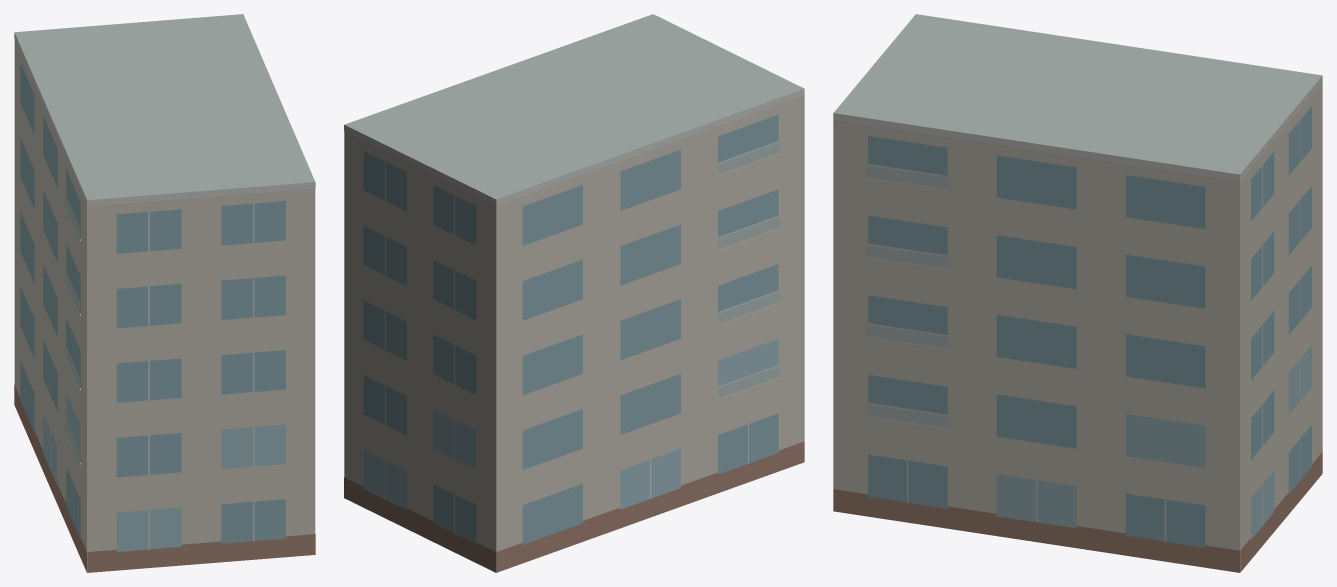
File: survey-upis-32849530.glb
3 renders of one model, left to right at view 1: azimuth 30°, elevation 25°; view 2: azimuth 150°, elevation 25°; view 3: azimuth 270°, elevation 25°, orthographic. The views are drawn at different scales.
Visible parts, largest first — view 1: survey-upis-32849530.tmp; view 2: survey-upis-32849530.tmp; view 3: survey-upis-32849530.tmp.
Boxes of the visible parts, left/top/right/bottom form: survey-upis-32849530.tmp: left=14, top=14, right=315, bottom=572; survey-upis-32849530.tmp: left=344, top=14, right=804, bottom=572; survey-upis-32849530.tmp: left=833, top=14, right=1322, bottom=572.
Size of the model in its own units: 12.55 by 14.5 by 16.15.
